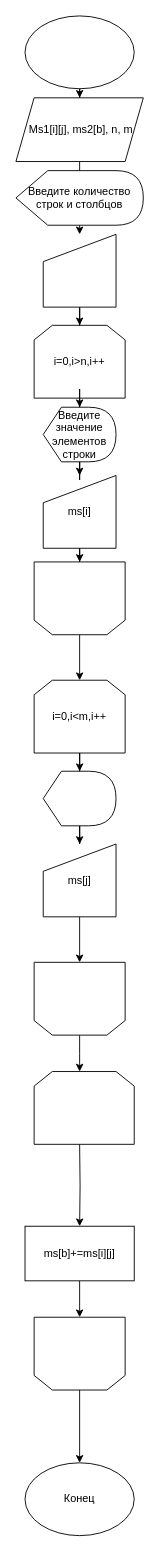
Image size: 159x1552. Some labels were removed from this diagram. Here are the shapes that lost their labels. From the top down, the box of each, then its label:
(24, 15, 134, 89): Начало
(42, 233, 116, 307): m,n
(42, 770, 116, 826): Введите значение элементов столбца
(33, 1071, 134, 1144): I=0,i<n,i++
